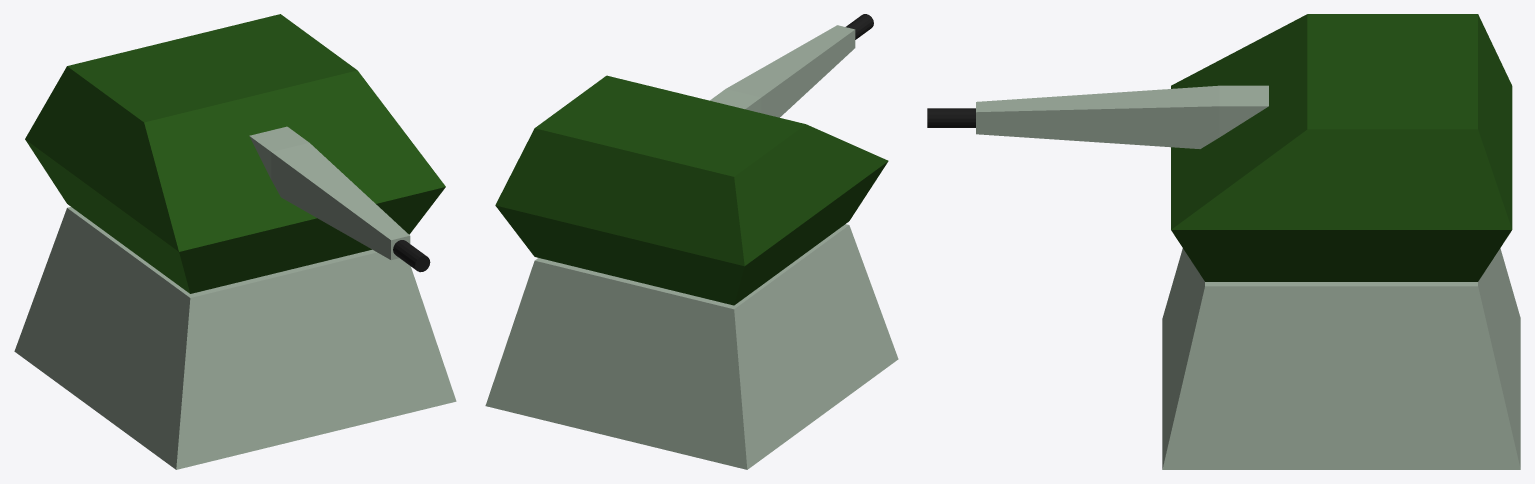
Rendered from turret_1.Dif8-o10.glb.
3 views of the same model, side by side, from view 1: azimuth 30°, elevation 25°; view 2: azimuth 150°, elevation 25°; view 3: azimuth 270°, elevation 25° (orthographic). The views are drawn at different scales.
Parts seen in each view (by area): view 1: head_base, body, barrel_base, barrel_target; view 2: body, head_base, barrel_base; view 3: head_base, body, barrel_base, barrel_target.
Part boxes in pixels (x1=…): head_base: x1=25, y1=14, x2=445, y2=293; body: x1=14, y1=207, x2=456, y2=469; barrel_base: x1=249, y1=126, x2=410, y2=260; barrel_target: x1=393, y1=240, x2=430, y2=272; body: x1=485, y1=224, x2=898, y2=469; head_base: x1=495, y1=75, x2=888, y2=305; barrel_base: x1=710, y1=25, x2=855, y2=117; head_base: x1=1171, y1=14, x2=1512, y2=281; body: x1=1162, y1=248, x2=1520, y2=469; barrel_base: x1=976, y1=85, x2=1268, y2=148; barrel_target: x1=927, y1=108, x2=975, y2=127.
Size of the model in its own units: 0.294 by 0.292 by 0.487.
